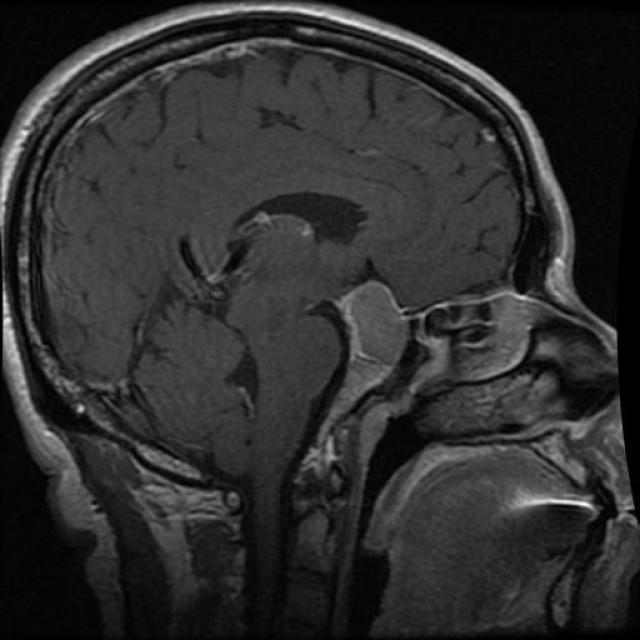pituitary: (328, 262, 414, 414)
